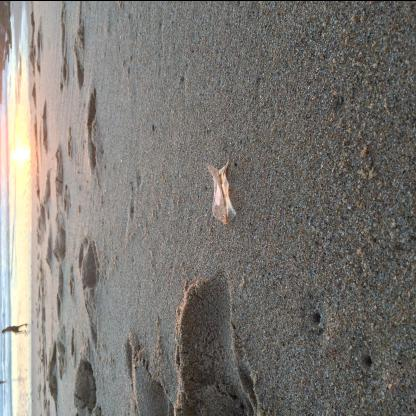plastik: (205, 158, 237, 224)
